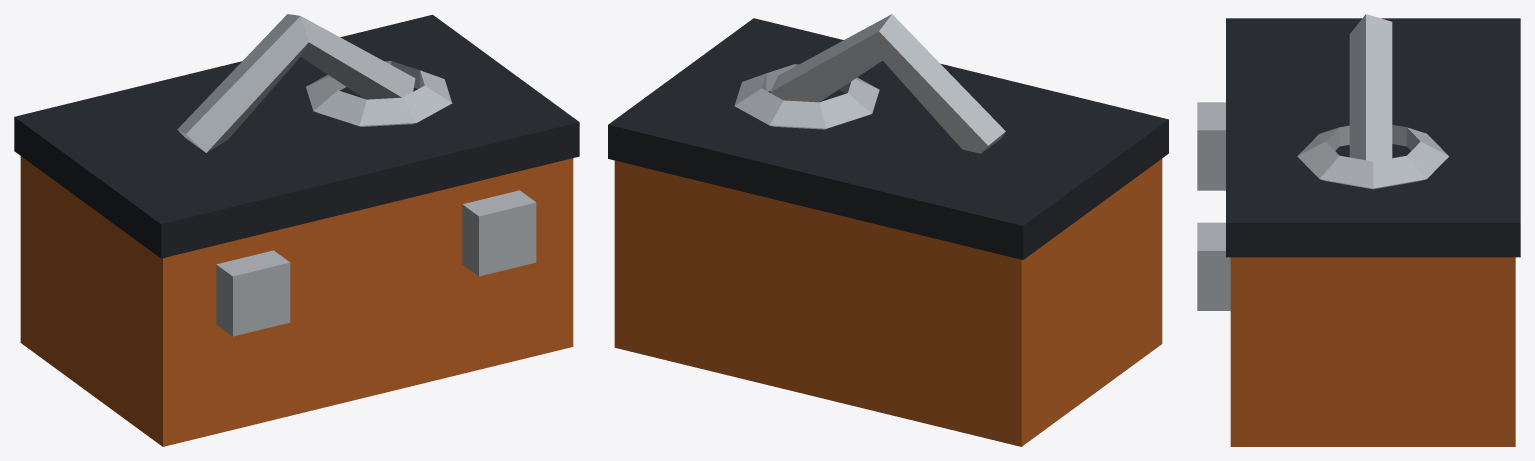
Rendered from repair-kit.glb.
3 views of the same model, side by side, from view 1: azimuth 30°, elevation 25°; view 2: azimuth 150°, elevation 25°; view 3: azimuth 270°, elevation 25° (orthographic).
Visible parts, largest first — view 1: m; view 2: m; view 3: m.
Boxes of the visible parts, <box> form: m: <box>14,14,579,446</box>; m: <box>608,14,1168,446</box>; m: <box>1197,14,1520,446</box>.
Bounding box in the file's own units: 0.1 × 0.0757 × 0.0667.
